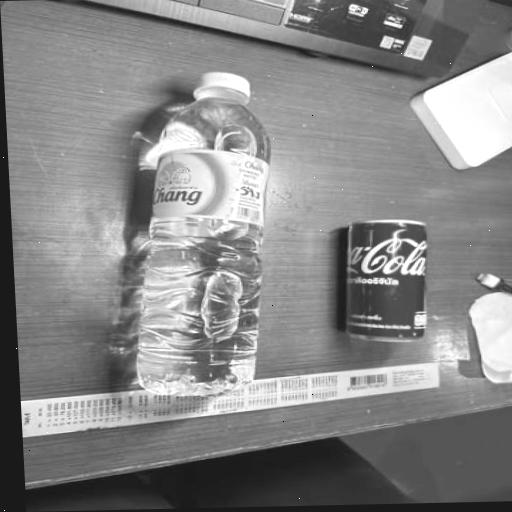bottle: (91, 54, 302, 423)
canned: (317, 190, 452, 369)
